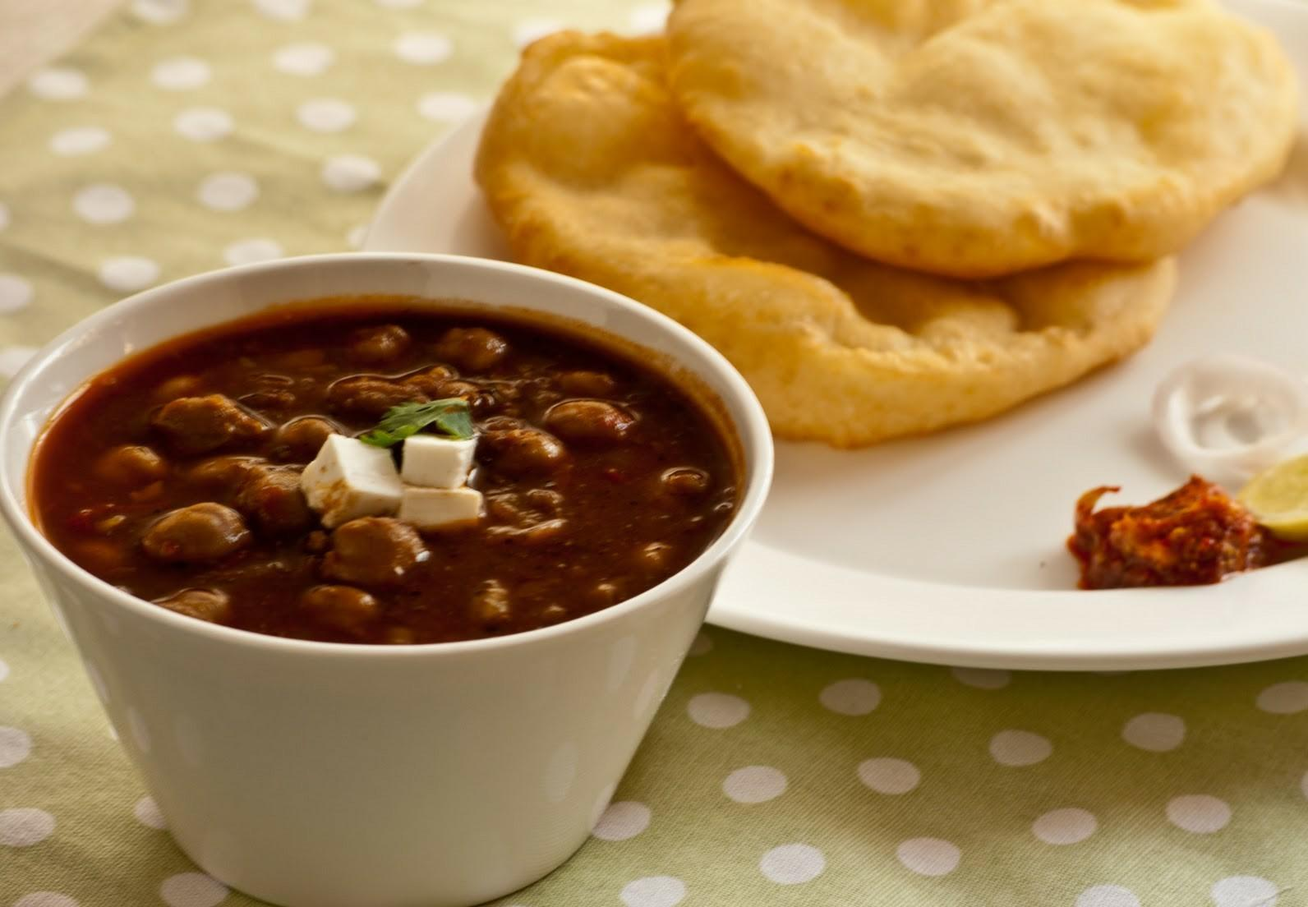Bhatura: (469, 2, 1300, 446)
Chole: (44, 292, 723, 641)
